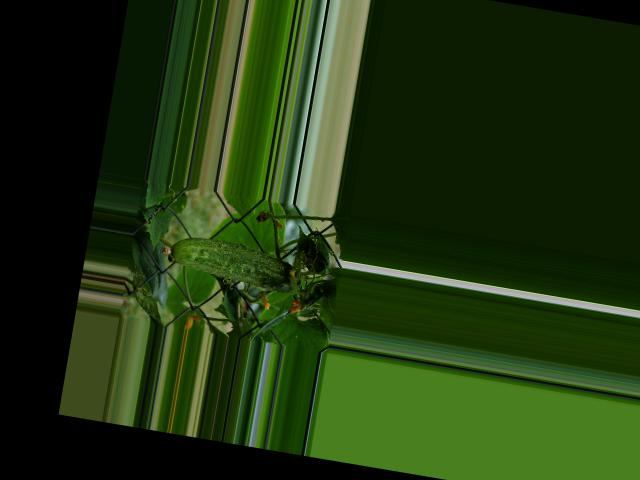cucumber: (159, 231, 304, 294)
